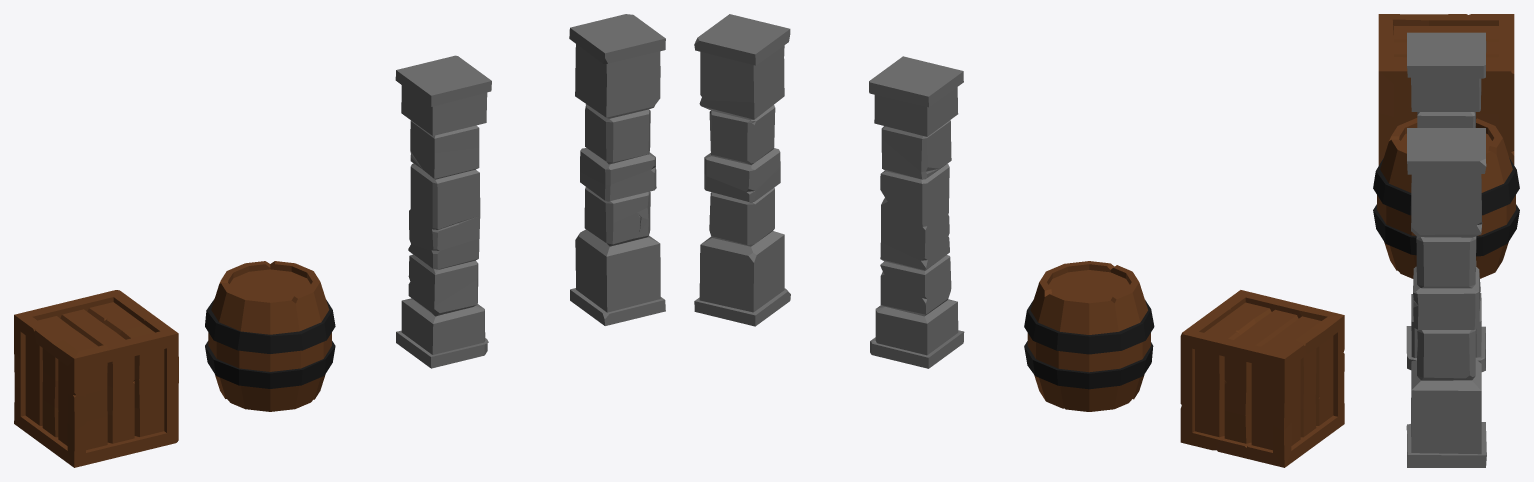
The model's file is crate_barrel_pillar_final.glb.
3 views of the same model, side by side, from view 1: azimuth 30°, elevation 25°; view 2: azimuth 150°, elevation 25°; view 3: azimuth 270°, elevation 25° (orthographic). The views are drawn at different scales.
Parts seen in each view (by area): view 1: crate, pillar_2, pillar_1, barrel; view 2: crate, pillar_2, pillar_1, barrel; view 3: pillar_2, crate, barrel, pillar_1.
Part boxes in pixels (x1,y1,x2,y2): crate: (14, 290, 178, 467); pillar_2: (569, 14, 665, 325); pillar_1: (395, 55, 491, 368); barrel: (205, 261, 335, 411); crate: (1180, 290, 1344, 467); pillar_2: (694, 14, 790, 326); pillar_1: (869, 56, 964, 368); barrel: (1024, 261, 1154, 411); pillar_2: (1406, 128, 1486, 467); crate: (1378, 14, 1514, 165); barrel: (1373, 118, 1519, 278); pillar_1: (1406, 32, 1486, 371).
Bounding box in the file's own units: 6.96 × 3 × 1.3.
